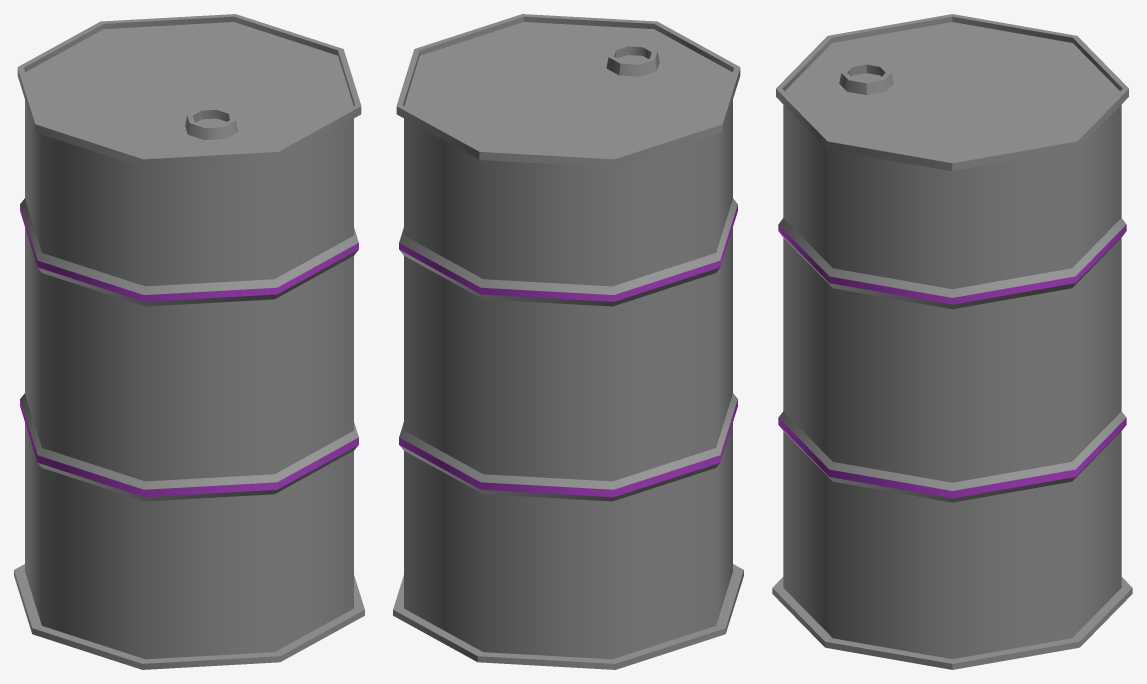
File: barrel.fbx
3 renders of one model, left to right at view 1: azimuth 30°, elevation 25°; view 2: azimuth 150°, elevation 25°; view 3: azimuth 270°, elevation 25°, orthographic.
Parts seen in each view (by area): view 1: barrel; view 2: barrel; view 3: barrel.
Boxes of the visible parts, x1=… form: barrel: x1=14, y1=14, x2=364, y2=669; barrel: x1=393, y1=14, x2=743, y2=669; barrel: x1=772, y1=14, x2=1132, y2=669.
Size of the model in its own units: 0.6598 by 1.03 by 0.6598.
